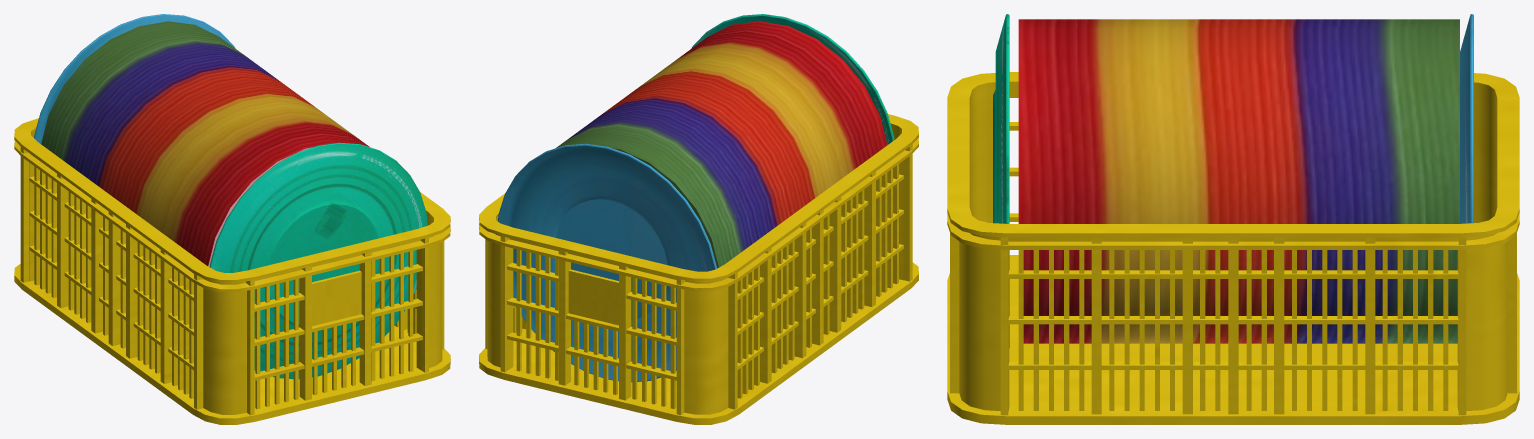
Rendered from platos.obj.
3 renders of one model, left to right at view 1: azimuth 30°, elevation 25°; view 2: azimuth 150°, elevation 25°; view 3: azimuth 270°, elevation 25°, orthographic. The views are drawn at different scales.
Visible parts, largest first — view 1: platos; view 2: platos; view 3: platos.
Boxes of the visible parts, left/top/right/bottom form: platos: left=14, top=14, right=450, bottom=424; platos: left=479, top=14, right=918, bottom=424; platos: left=947, top=14, right=1519, bottom=424.
Size of the model in its own units: 2.59 by 2.36 by 3.88.
